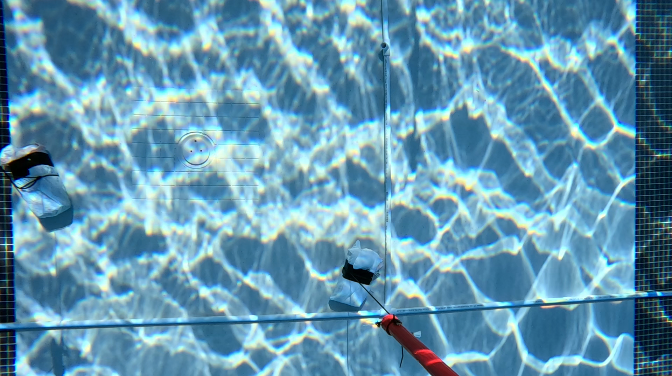sandbag: (0, 144, 72, 218), (331, 246, 381, 305)
